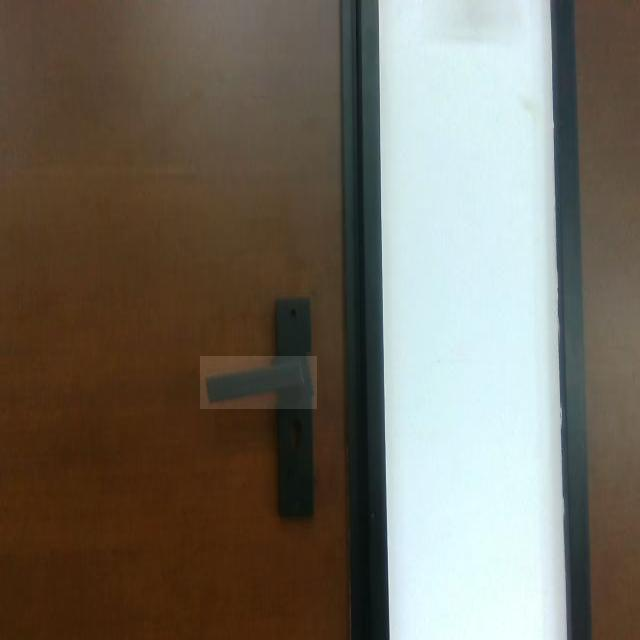doorhandle: (200, 356, 317, 409)
